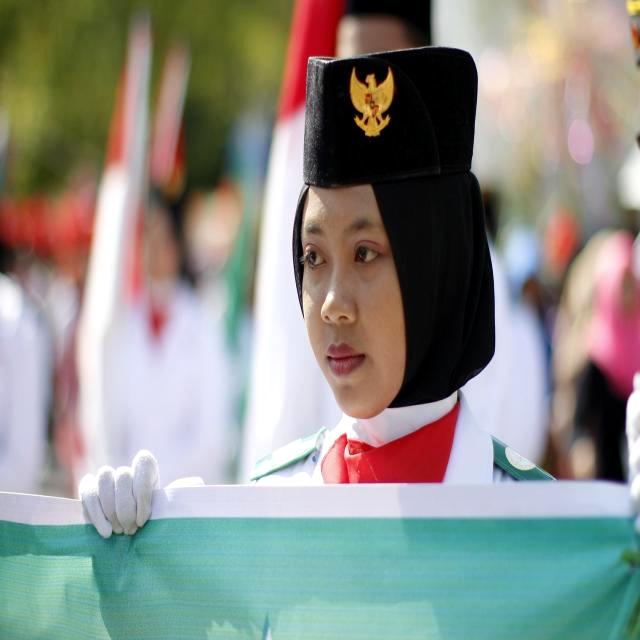no_hard_hat: (294, 47, 494, 401)
person: (77, 177, 557, 538)
